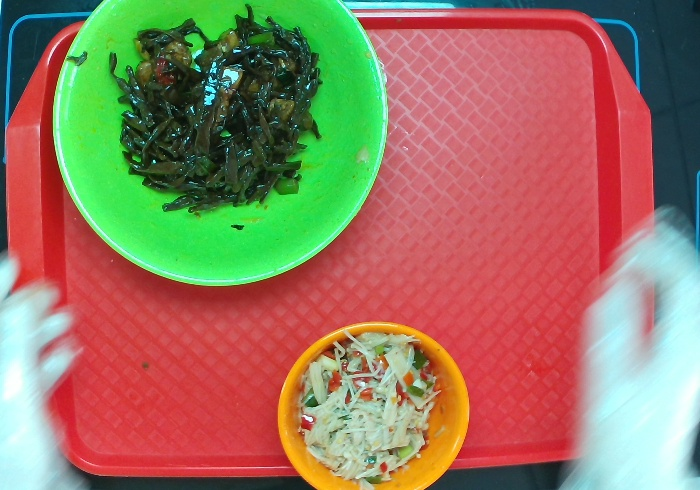YKMZ-Ju_Se_Yuan_Wan: (270, 324, 477, 490)
YKMZ-Lv_Se_Tang_Wan: (49, 1, 393, 292)
